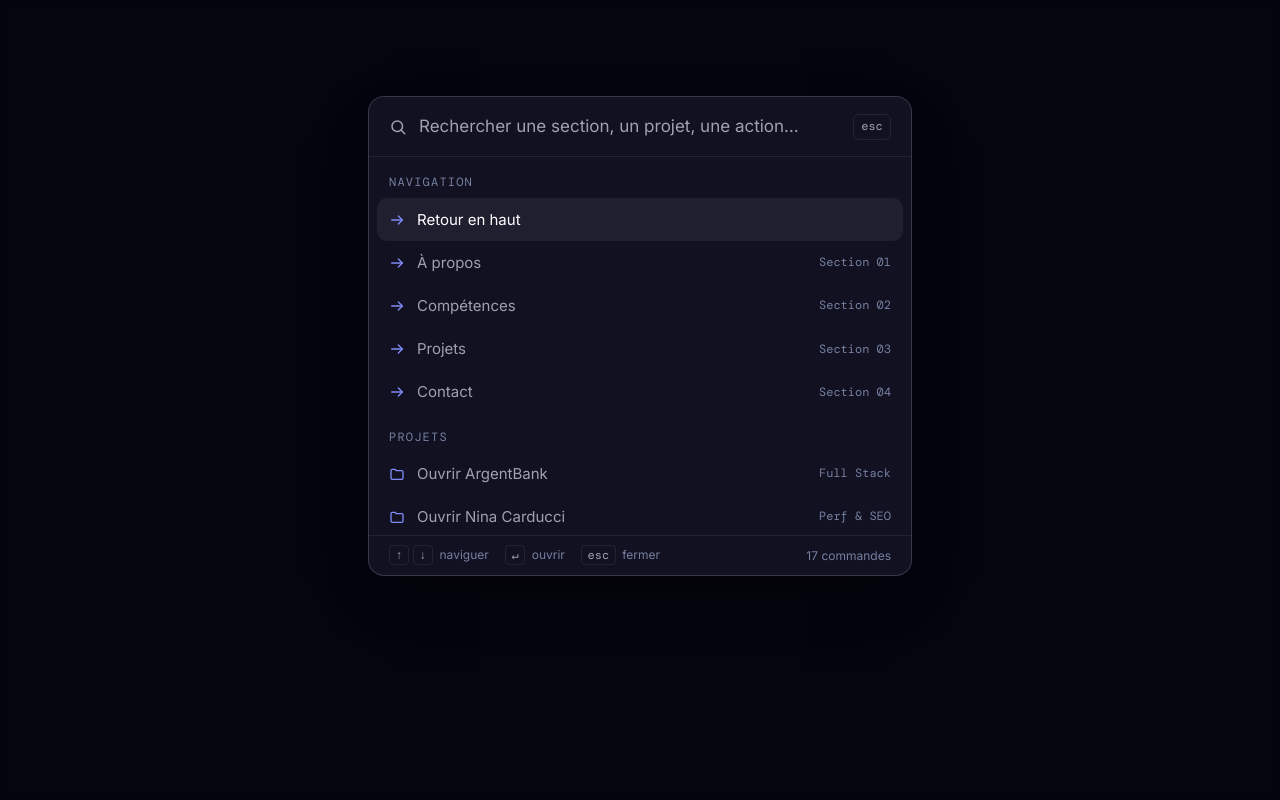
Test case: CommandPalette › affiche un état vide quand rien ne correspond
Type "zzzzzz" into the dropdown at (630, 127), box x1=419 y1=113 x2=841 y2=140
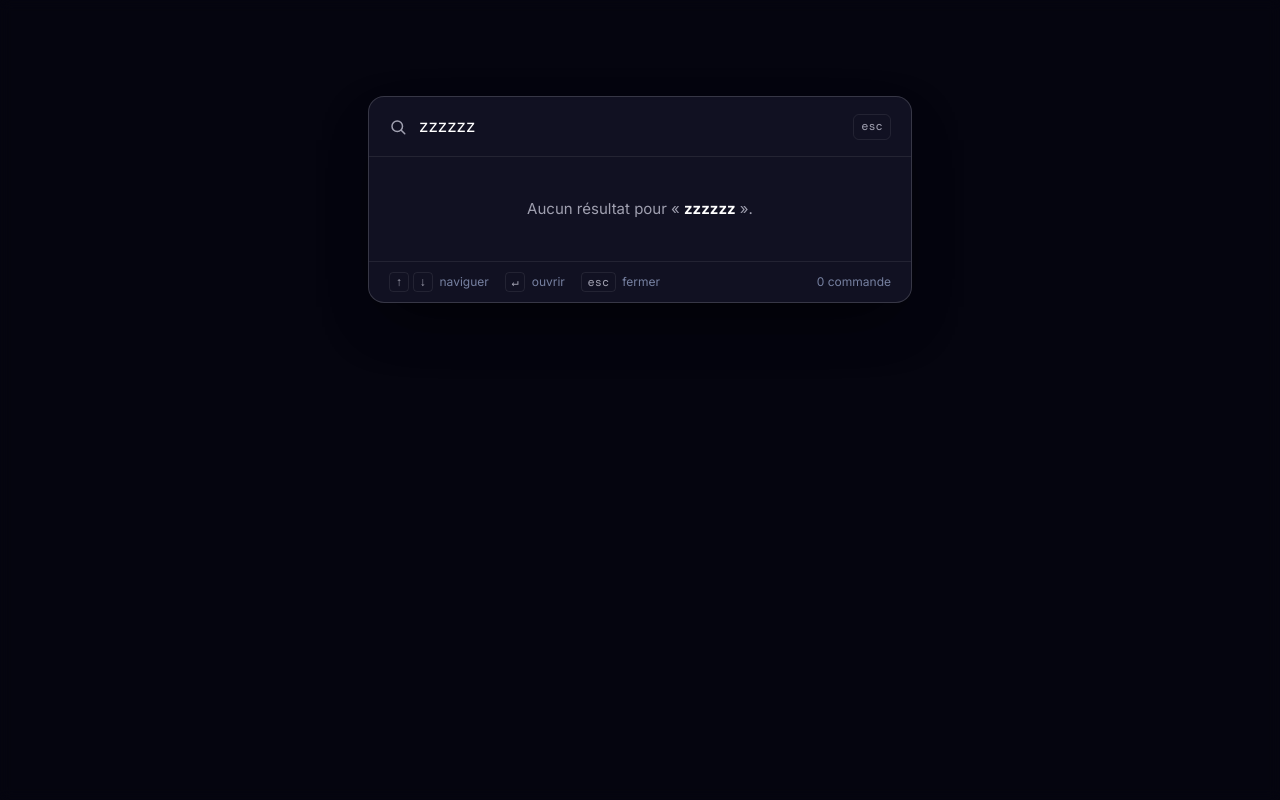
Check: no options are shown
Check: the text "Aucun résultat pour « zzzzzz »." is shown, box x1=527 y1=199 x2=753 y2=218
